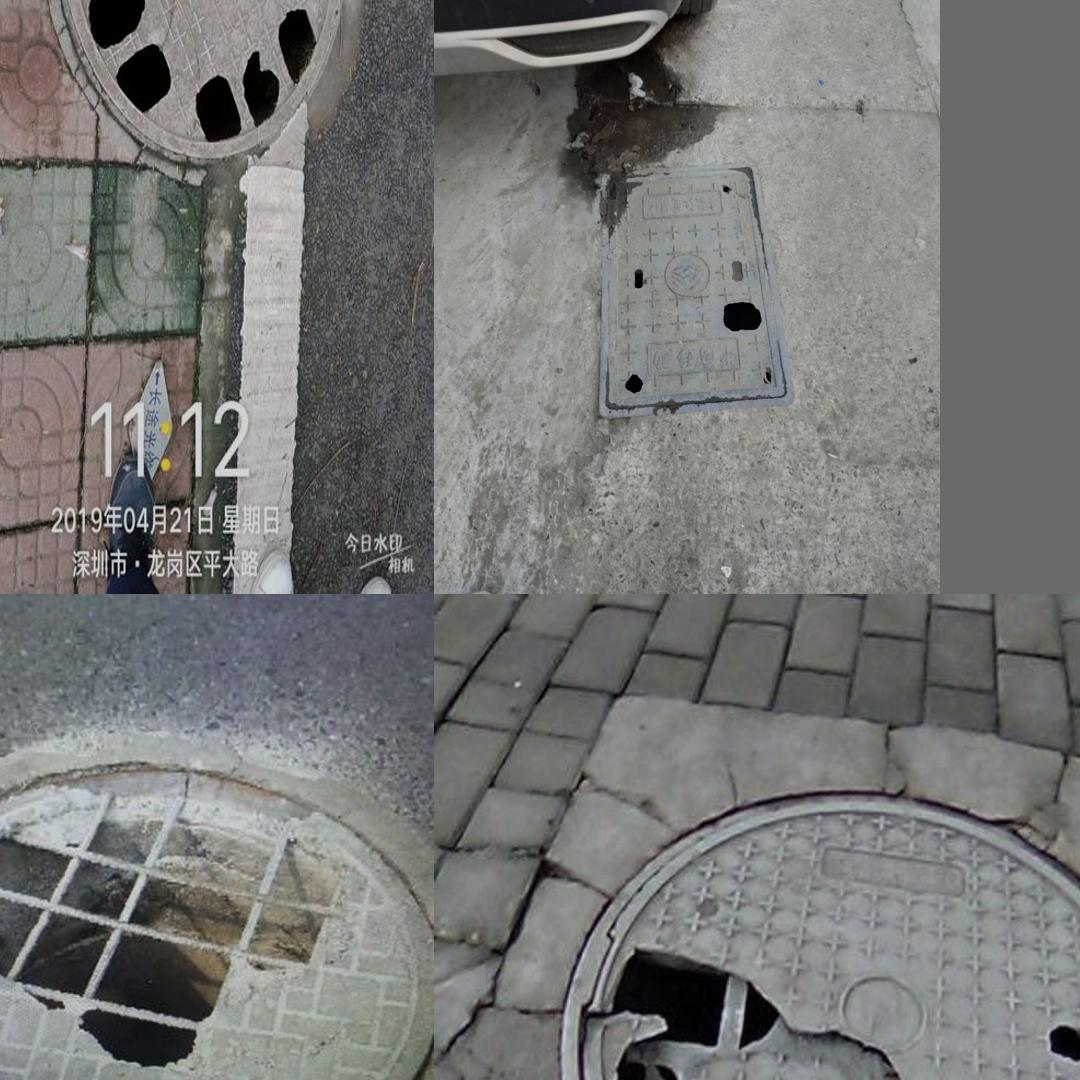broke: (527, 753, 1080, 1080), (0, 699, 429, 1080), (40, 0, 376, 189), (596, 162, 795, 417)
